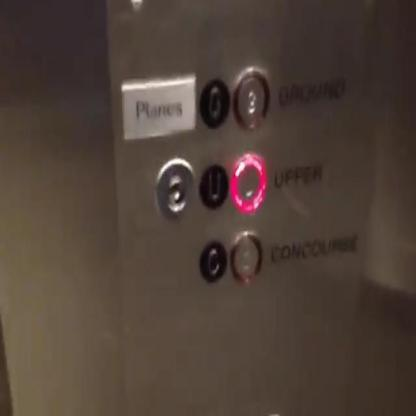3: (231, 62, 270, 132)
U: (197, 160, 228, 213)
blur: (229, 150, 267, 216), (230, 229, 264, 285), (197, 74, 230, 131), (197, 237, 228, 286)
keyhole: (154, 154, 196, 226)
